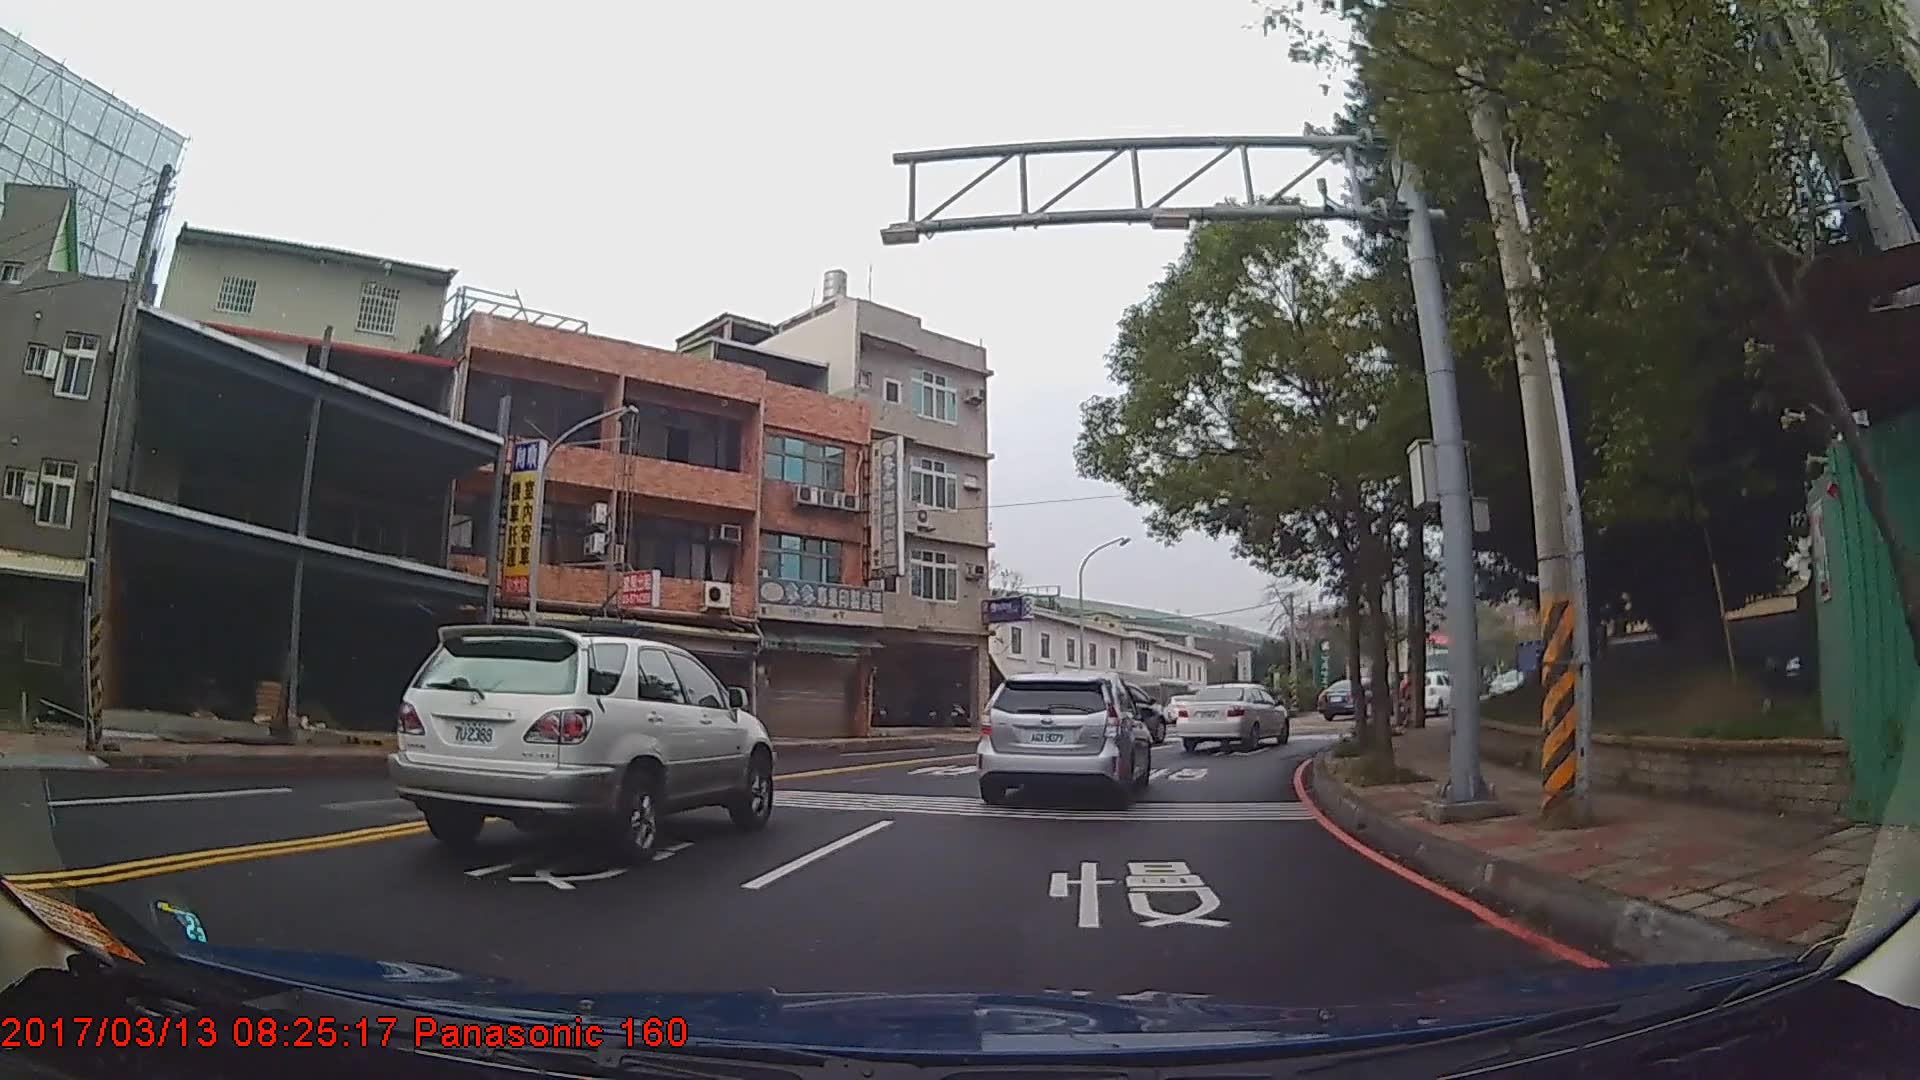vehicle: (386, 620, 775, 862), (971, 669, 1150, 808), (1174, 682, 1291, 752), (1315, 676, 1382, 719)
